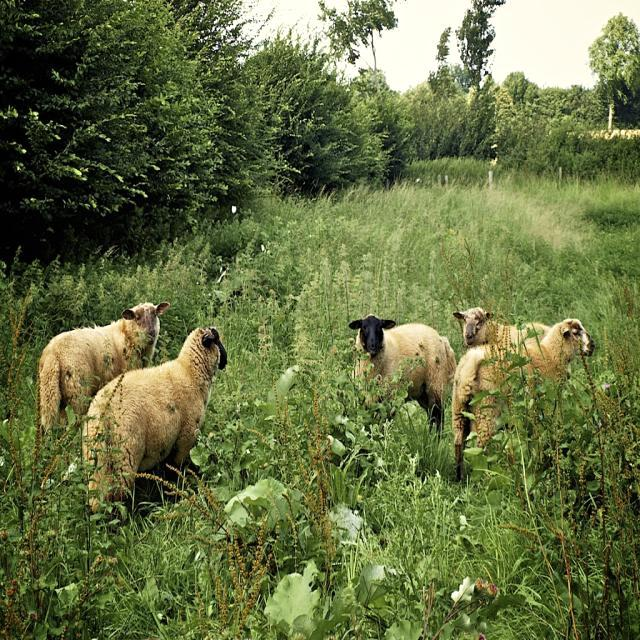sheep: (82, 328, 227, 501), (451, 319, 594, 470), (40, 301, 168, 428), (348, 315, 456, 429), (453, 308, 532, 343)
